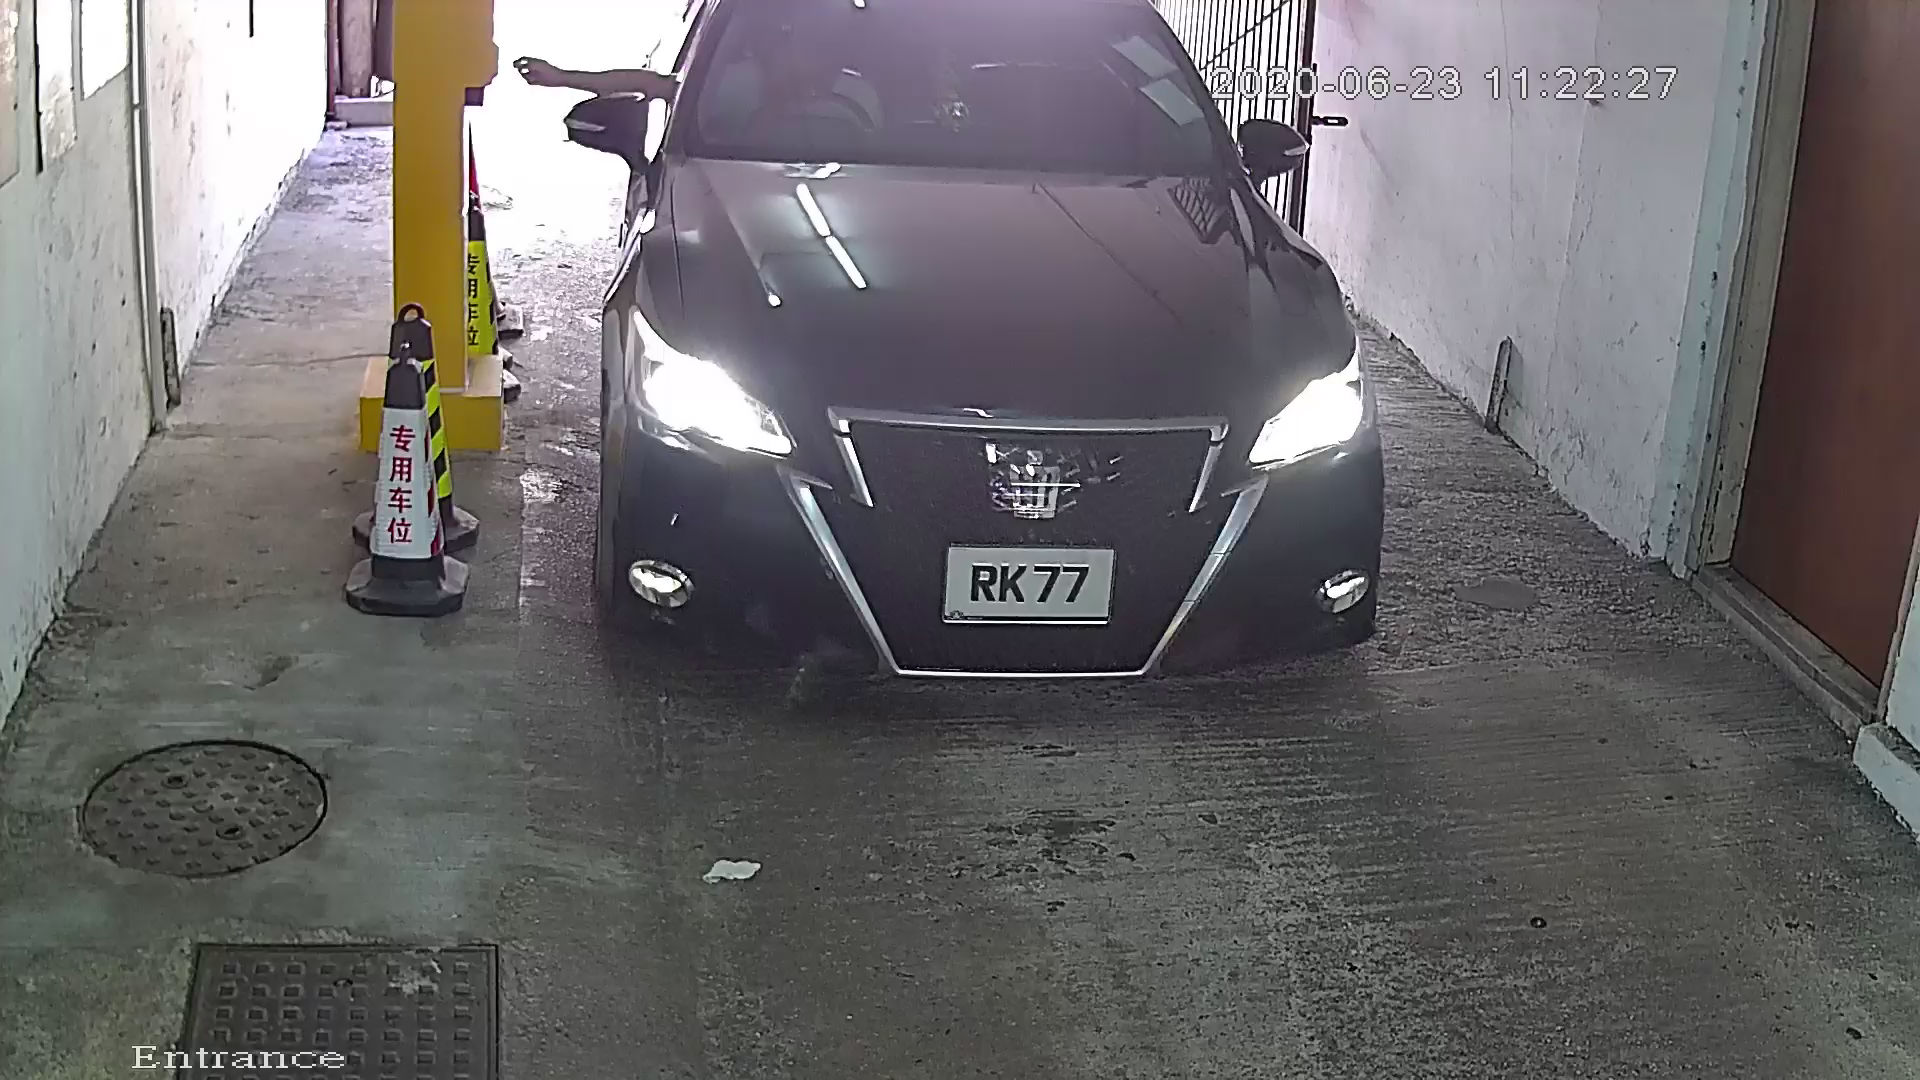privatecar: (505, 3, 1422, 713)
